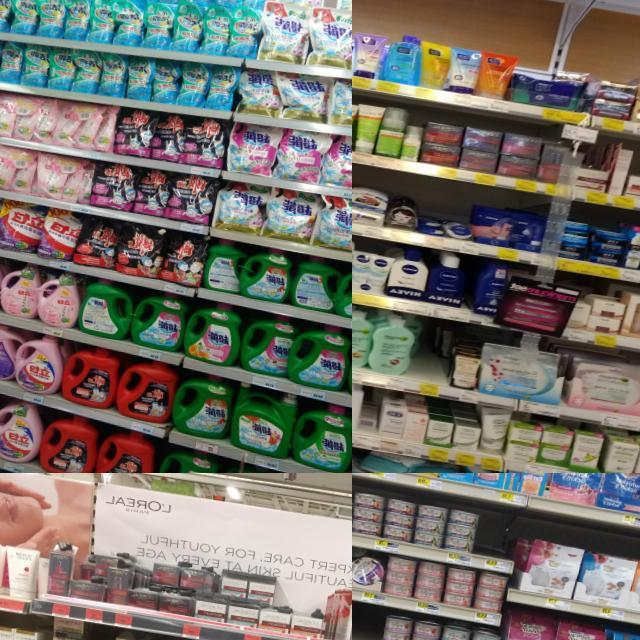empty: (474, 514, 514, 572), (413, 339, 443, 395), (352, 602, 385, 640)
